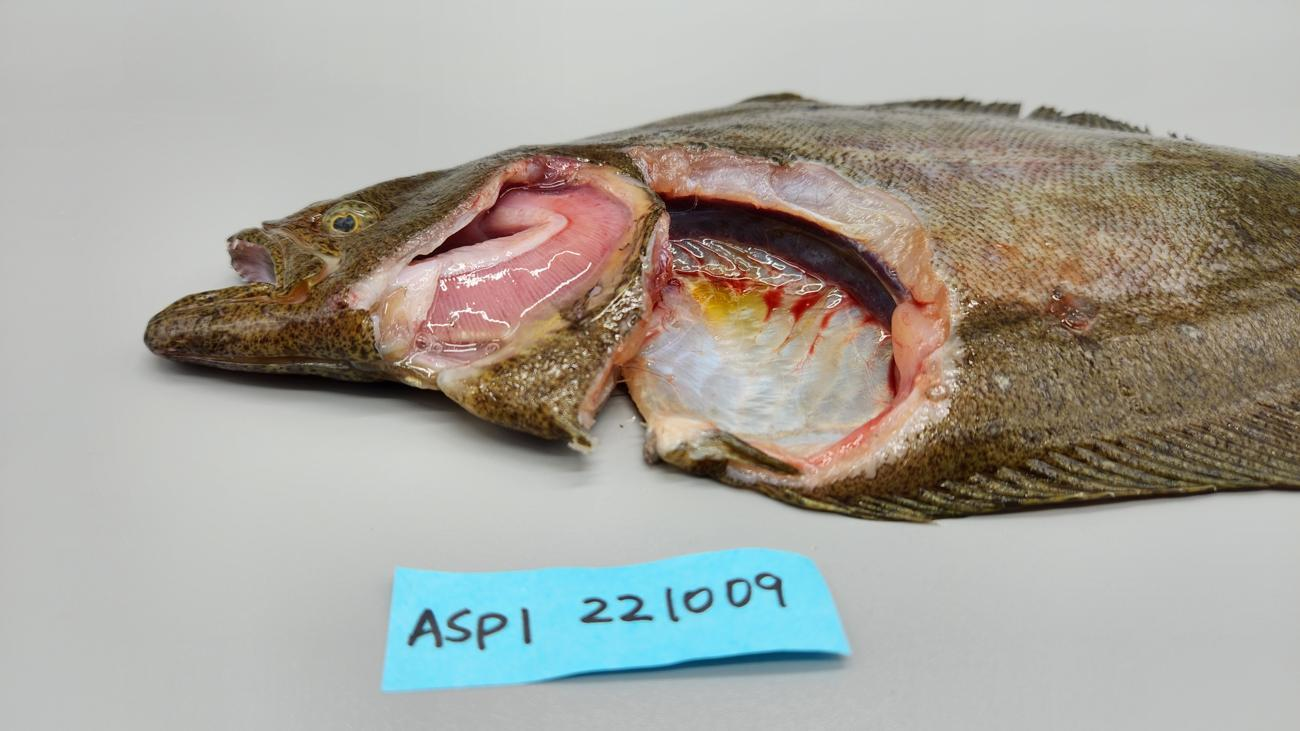SPASQ: (670, 235, 894, 437)
